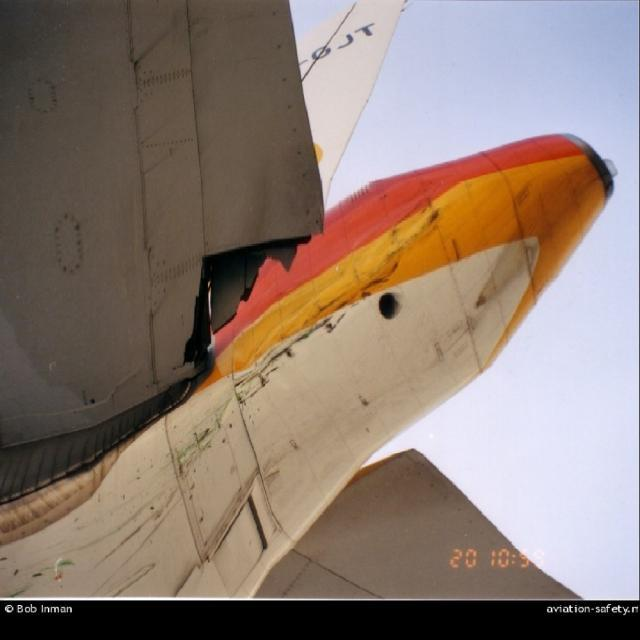crack: (166, 230, 327, 378)
